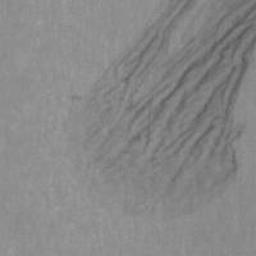Water spot: (61, 0, 256, 224)
